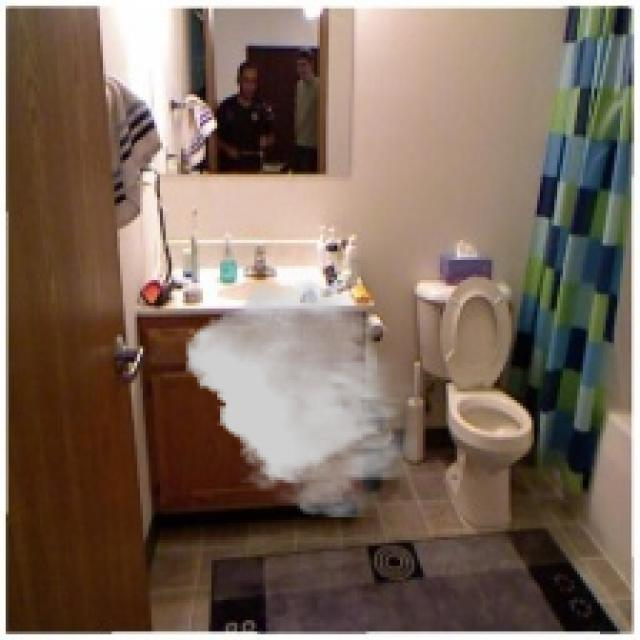smoke: (186, 280, 417, 517)
